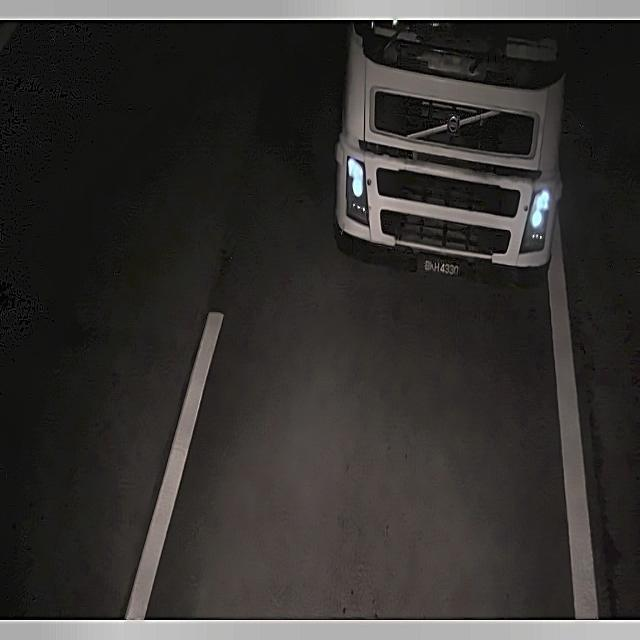car: (418, 248, 466, 283)
